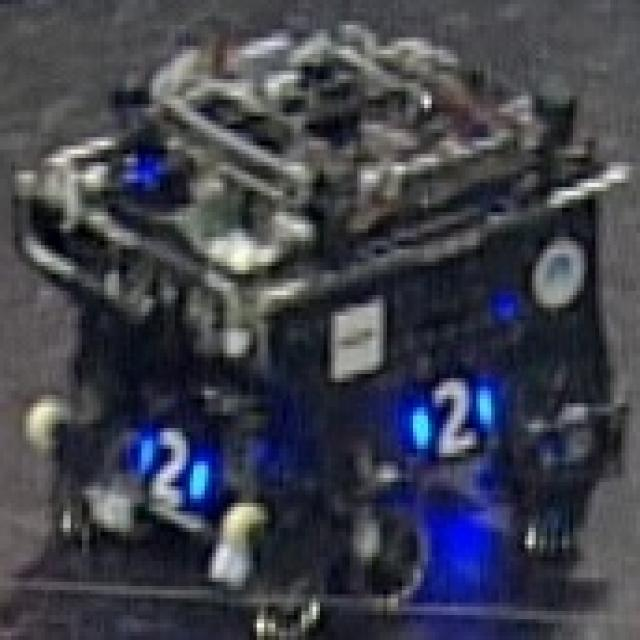B2: (409, 378, 495, 457), (134, 428, 208, 507)
